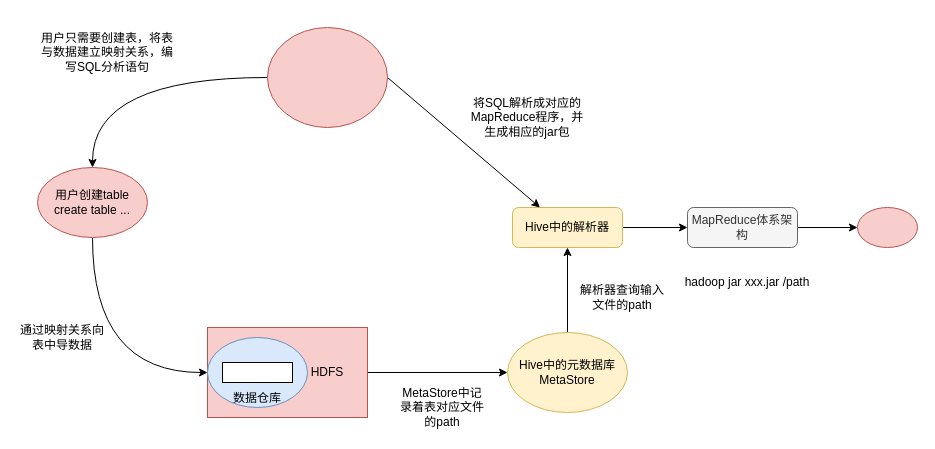
Image size: 935x449. Some labels were removed from this diagram. Here are the shapes that lost their labels. From the top down, the centre of each, then its label:
[327,77]: 用户针对数据表进行数据分析: select ... from table where ...
[887,227]: result
[257,372]: 数据文件
